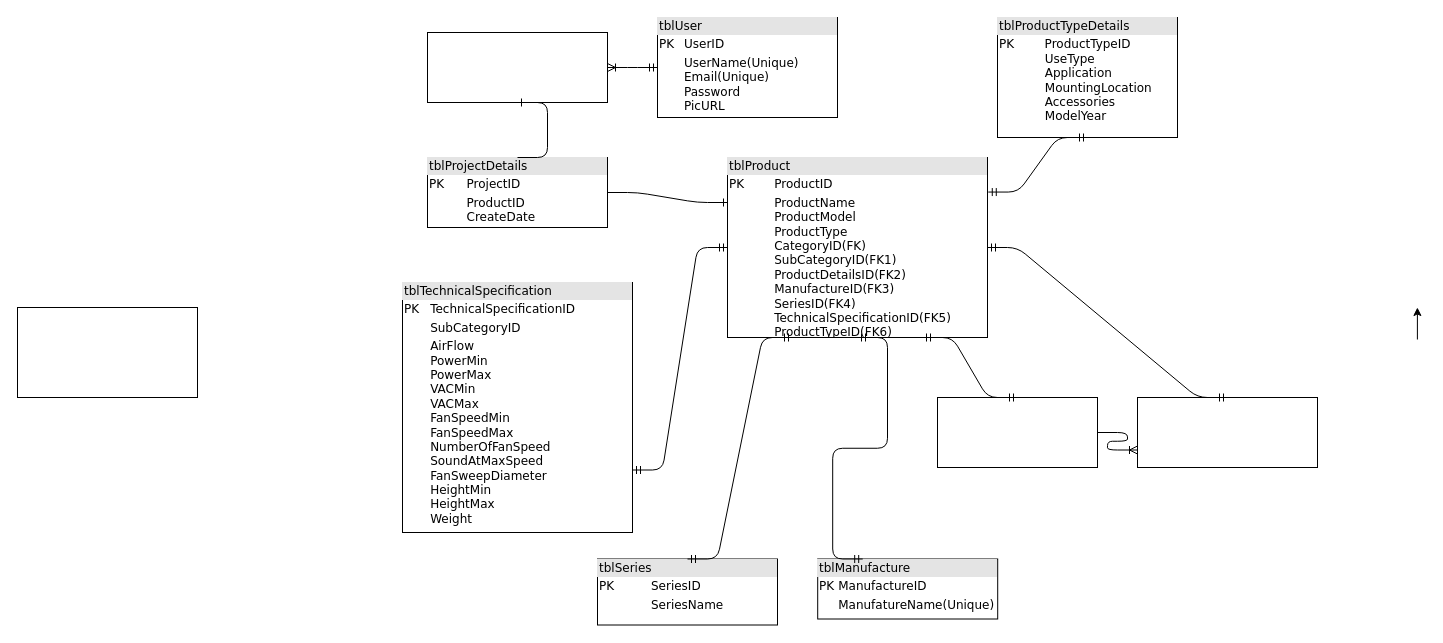
The diagram is 1443 pixels wide and 643 high, and some of its shapes have lost their labels. The shapes that lost their labels are listed below. From the top down, each one's centre as x and y in pixels, then its label:
At point (517, 67): "tblProject PK ProjectID ProjectName UserID".
At point (107, 352): "tblProject PK ID ProductID UserID ProductID".
At point (1017, 432): "tblProductCategories PK CategoryID CategoryName".
At point (1227, 432): "tblProductSubCategories PK SubCategoryID FK CategoryID SubCategoryName".
